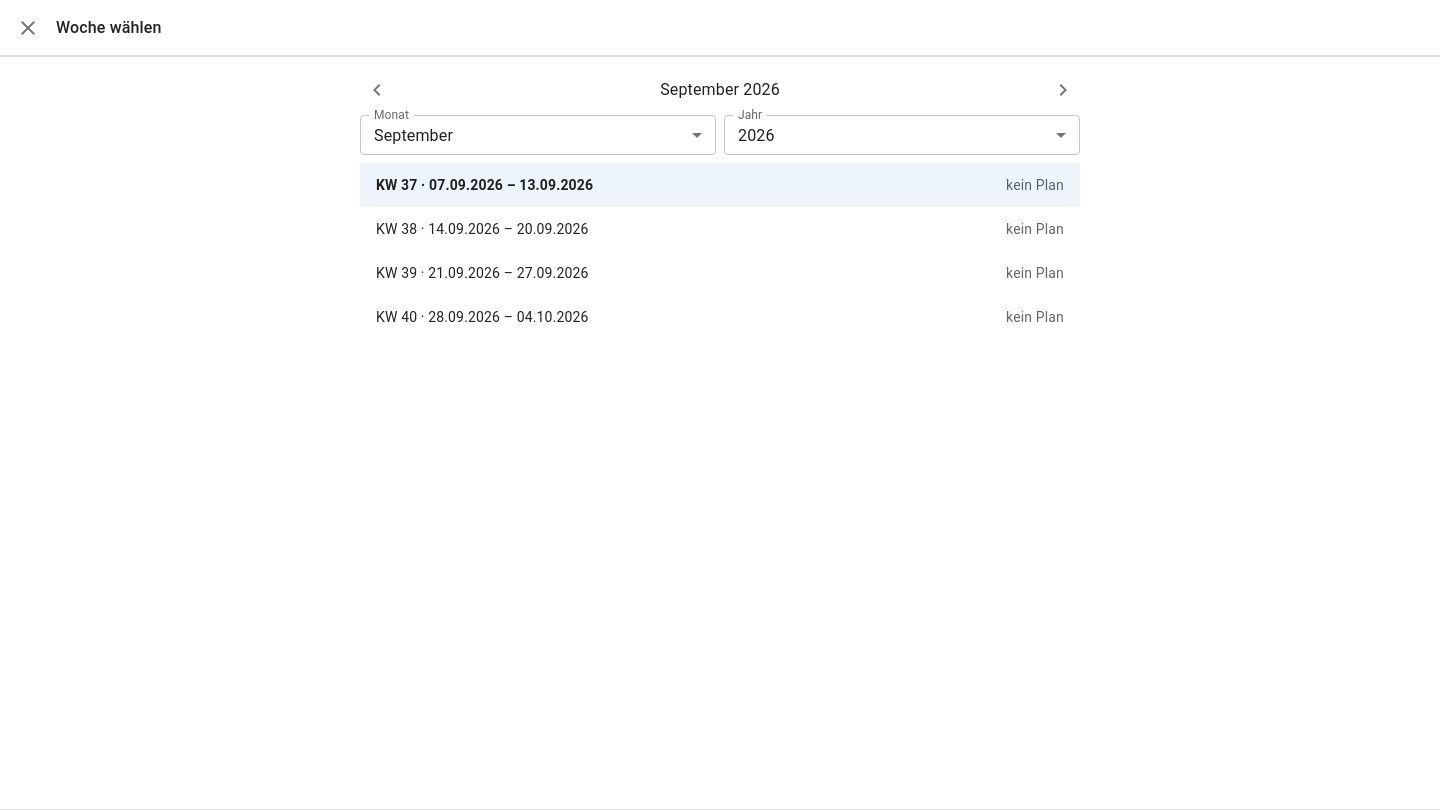
Scenario: WeekSelectionDialog › advances month navigation, wrapping into January of the next year, and updates the listed weeks
Click the button named "Nächster Monat" at coordinates (1063, 90), box top-left (1046, 73), bottom-right (1080, 107)
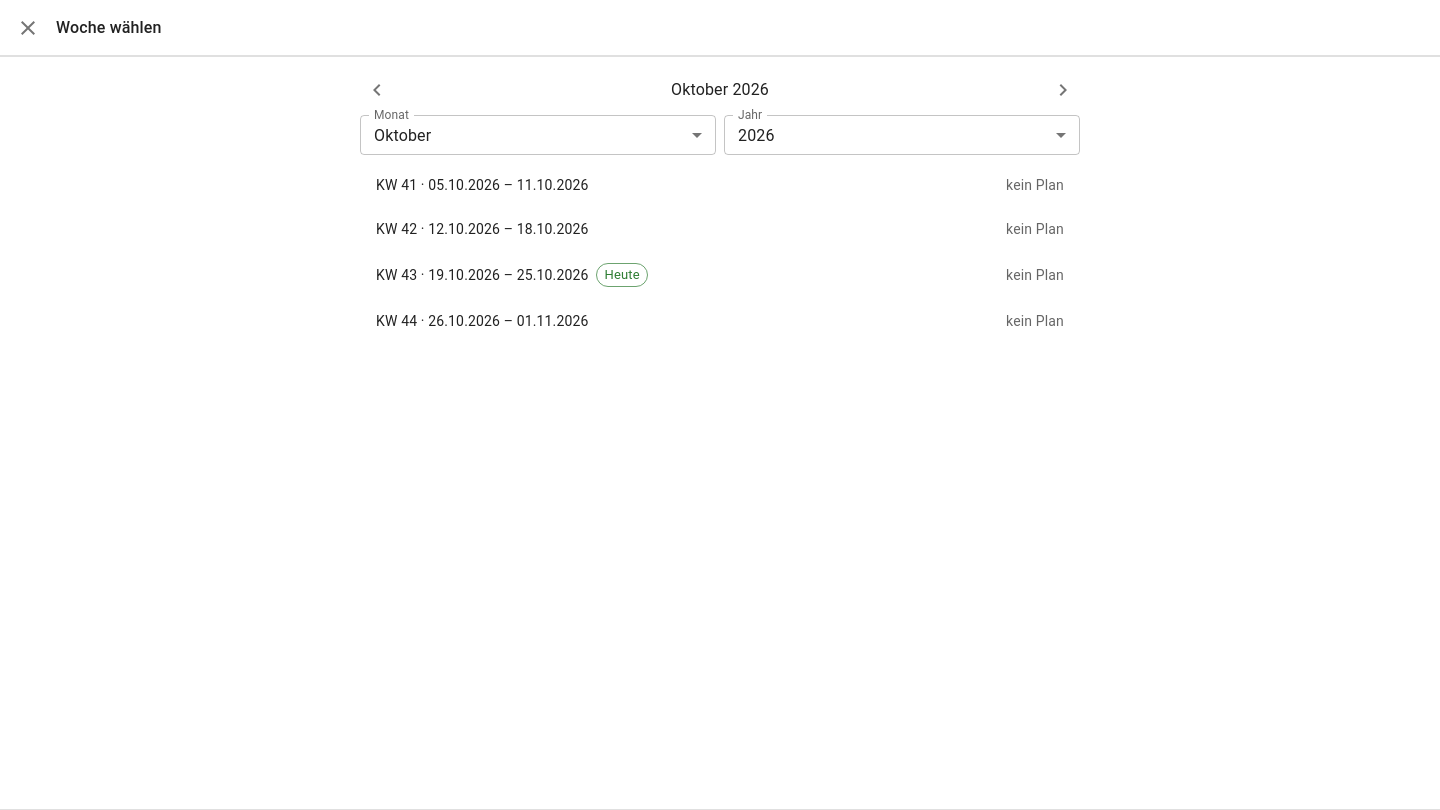
Click the button named "Nächster Monat" at coordinates (1063, 90), box top-left (1046, 73), bottom-right (1080, 107)
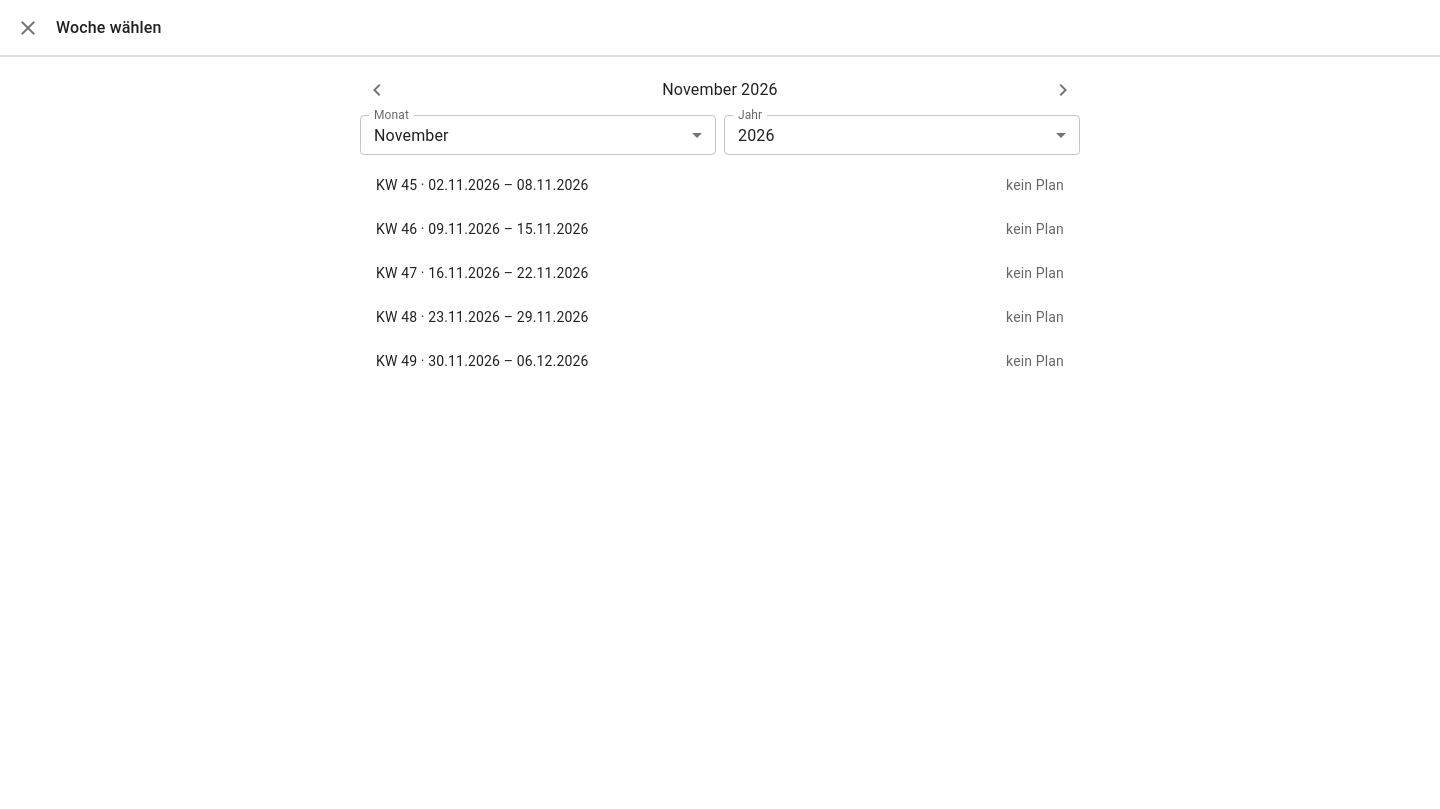
Click the button named "Nächster Monat" at coordinates (1063, 90), box top-left (1046, 73), bottom-right (1080, 107)
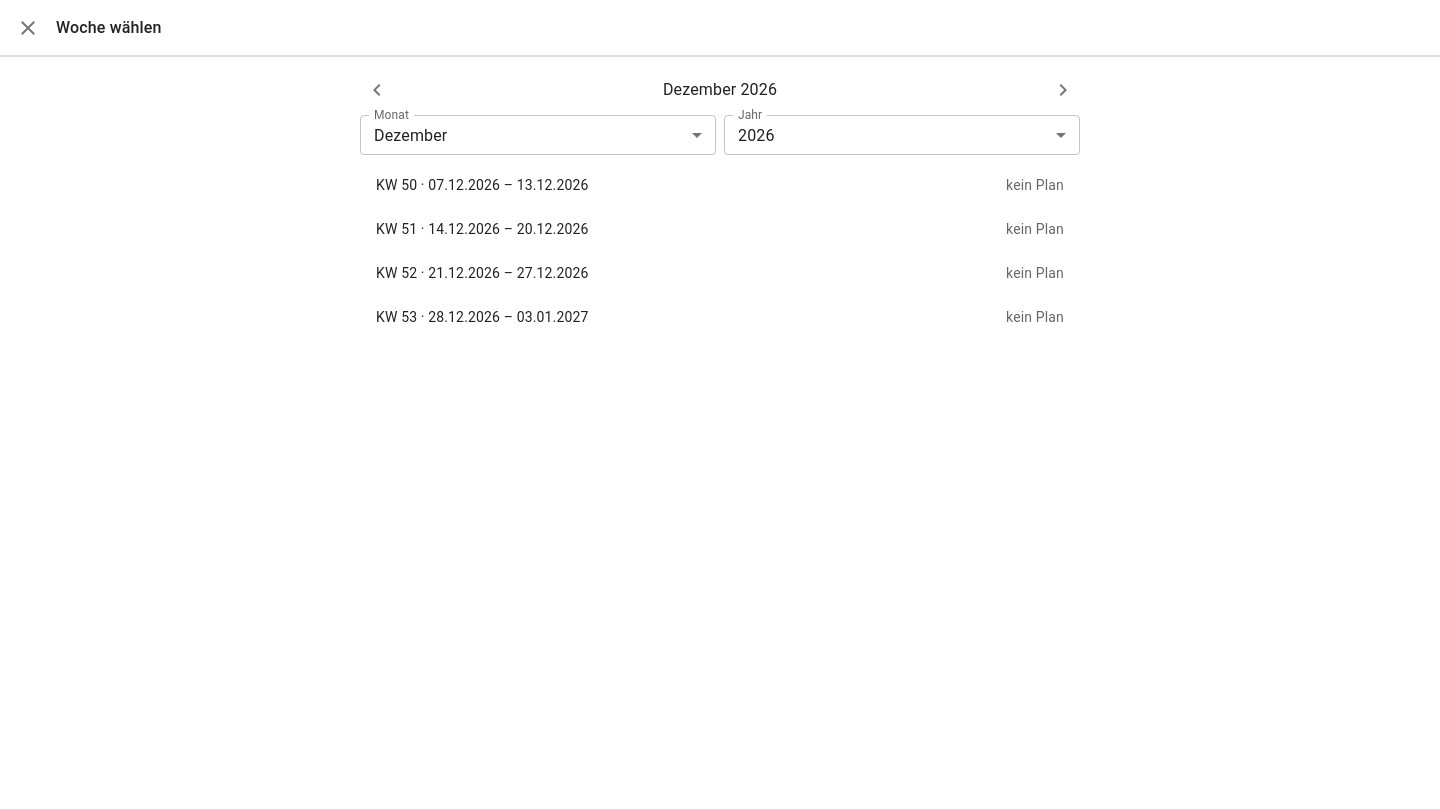
Result: the heading "Dezember 2026" is shown at top-left (663, 76), bottom-right (777, 104)
Click the button named "Nächster Monat" at coordinates (1063, 90), box top-left (1046, 73), bottom-right (1080, 107)
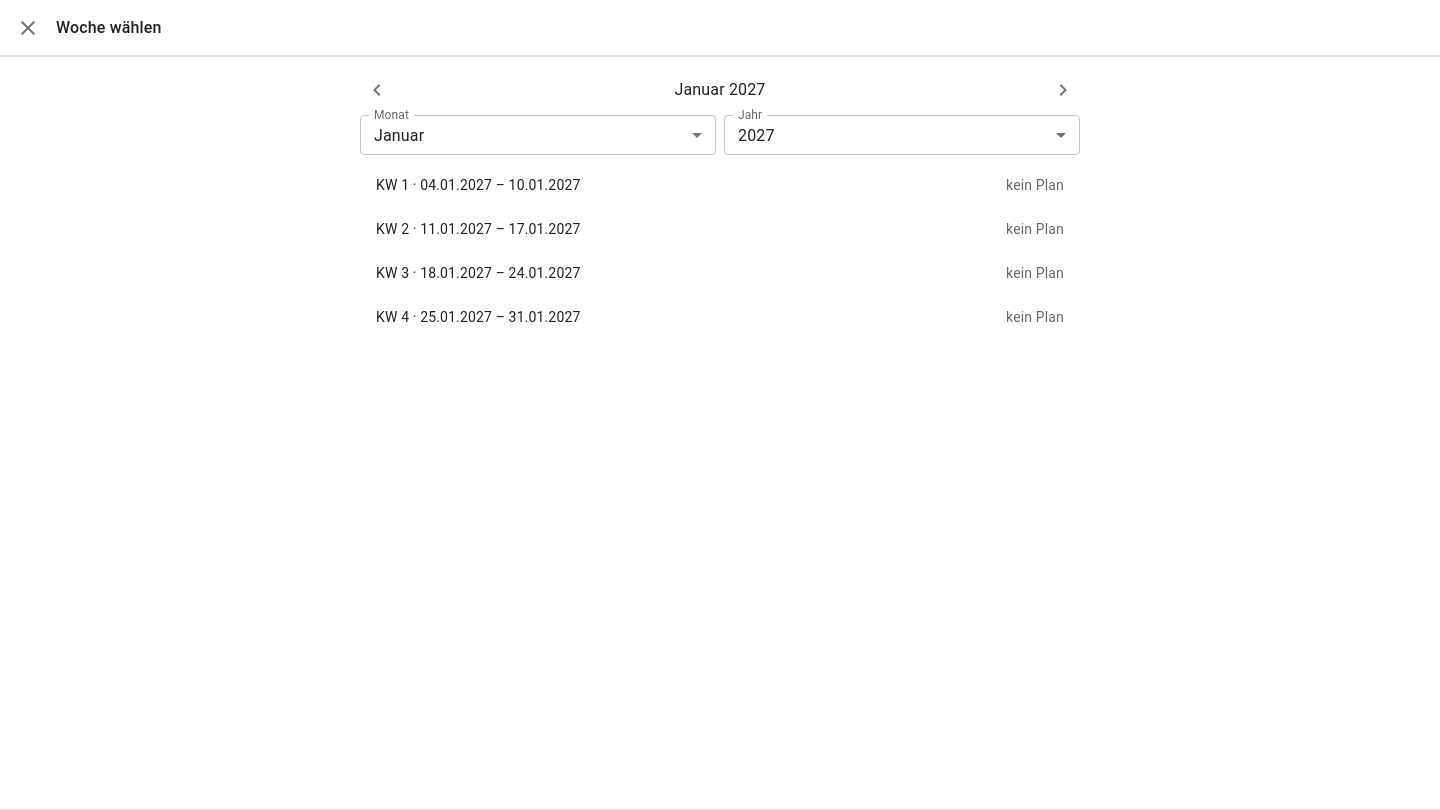
Result: the heading "Januar 2027" is shown at top-left (674, 76), bottom-right (765, 104)
